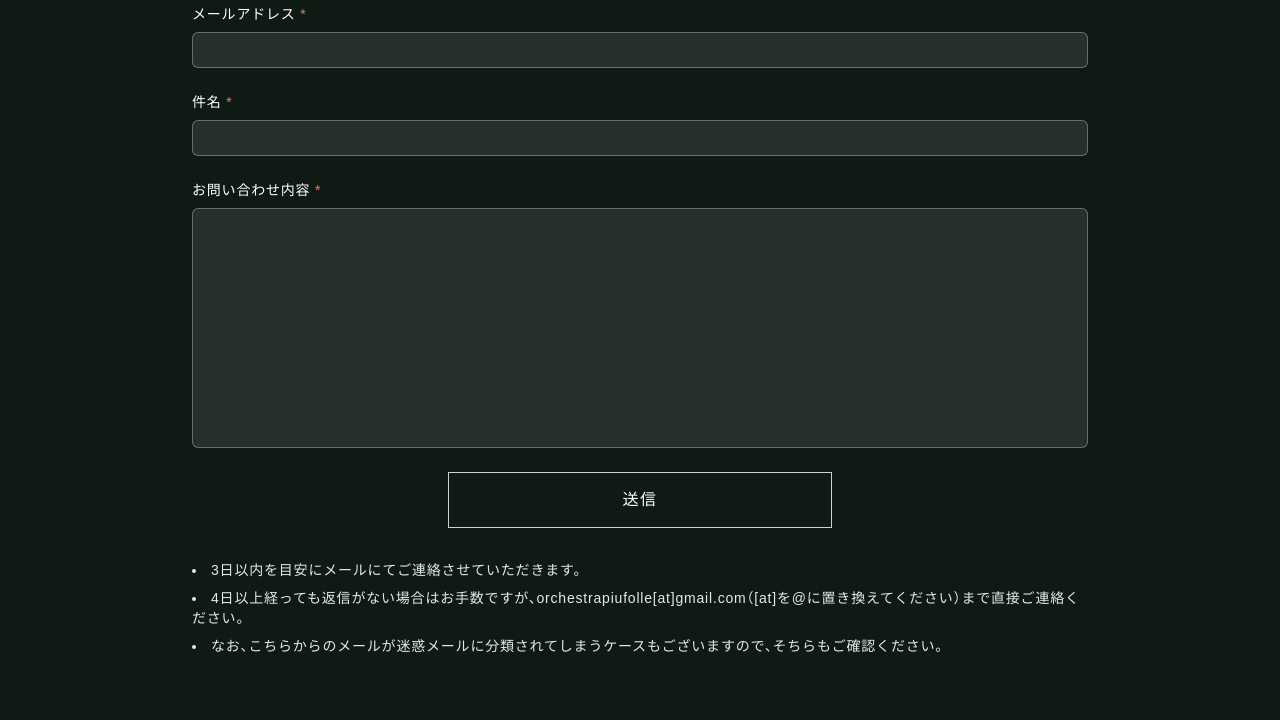
Test case: Contact Page › shows validation errors on submit if fields are empty
(page scrolled)
# 送信ボタンをクリック
Click the button "送信" at (640, 500), box [448,472,832,528]
(page scrolled)
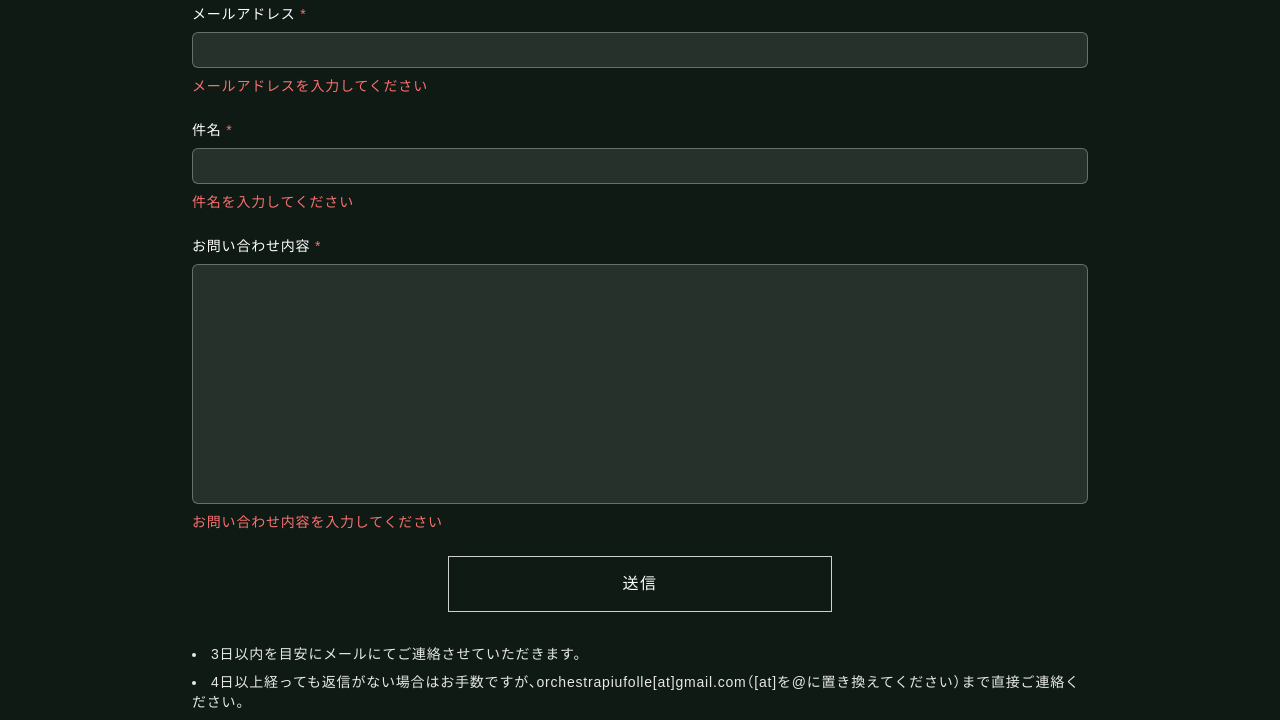
Expected: the number of messages is 4
Expected: the message "メールアドレスを入力してください" is shown, [192,78,428,94]
Expected: the message "件名を入力してください" is shown, [192,194,354,210]
